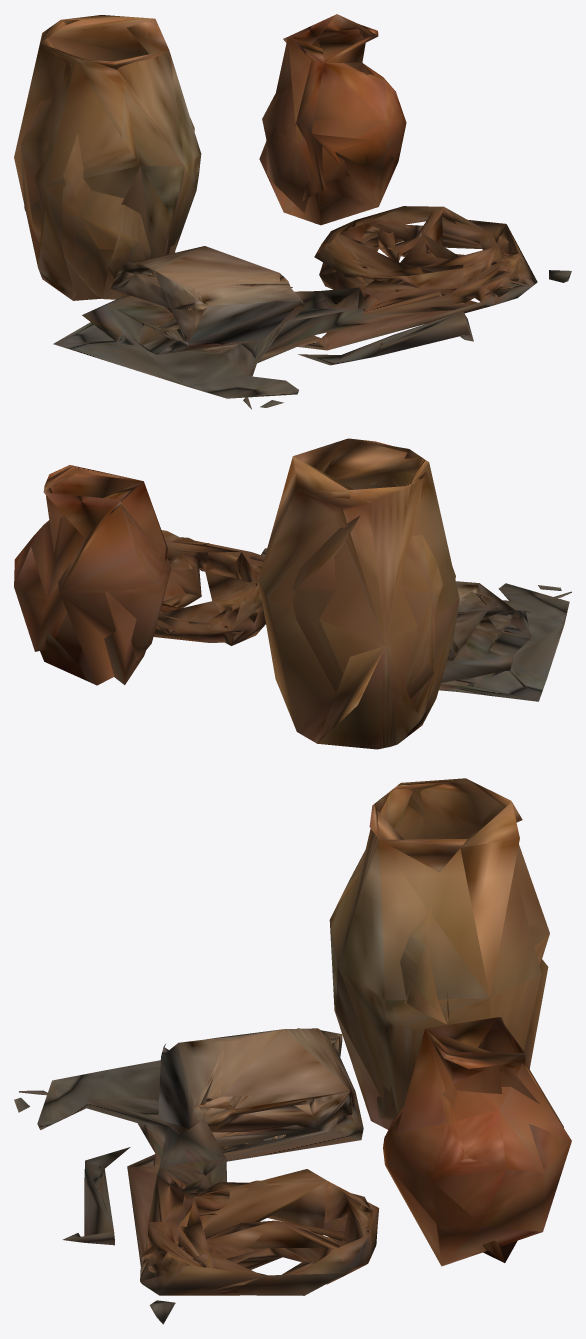
Rendered from werkzeuge.glb.
3 renders of one model, top to bottom at view 1: azimuth 30°, elevation 25°; view 2: azimuth 150°, elevation 25°; view 3: azimuth 270°, elevation 25°, orthographic. The views are drawn at different scales.
Bounding box in the file's own units: 1.98 × 1.02 × 1.7.
1 material, 1 textured.
